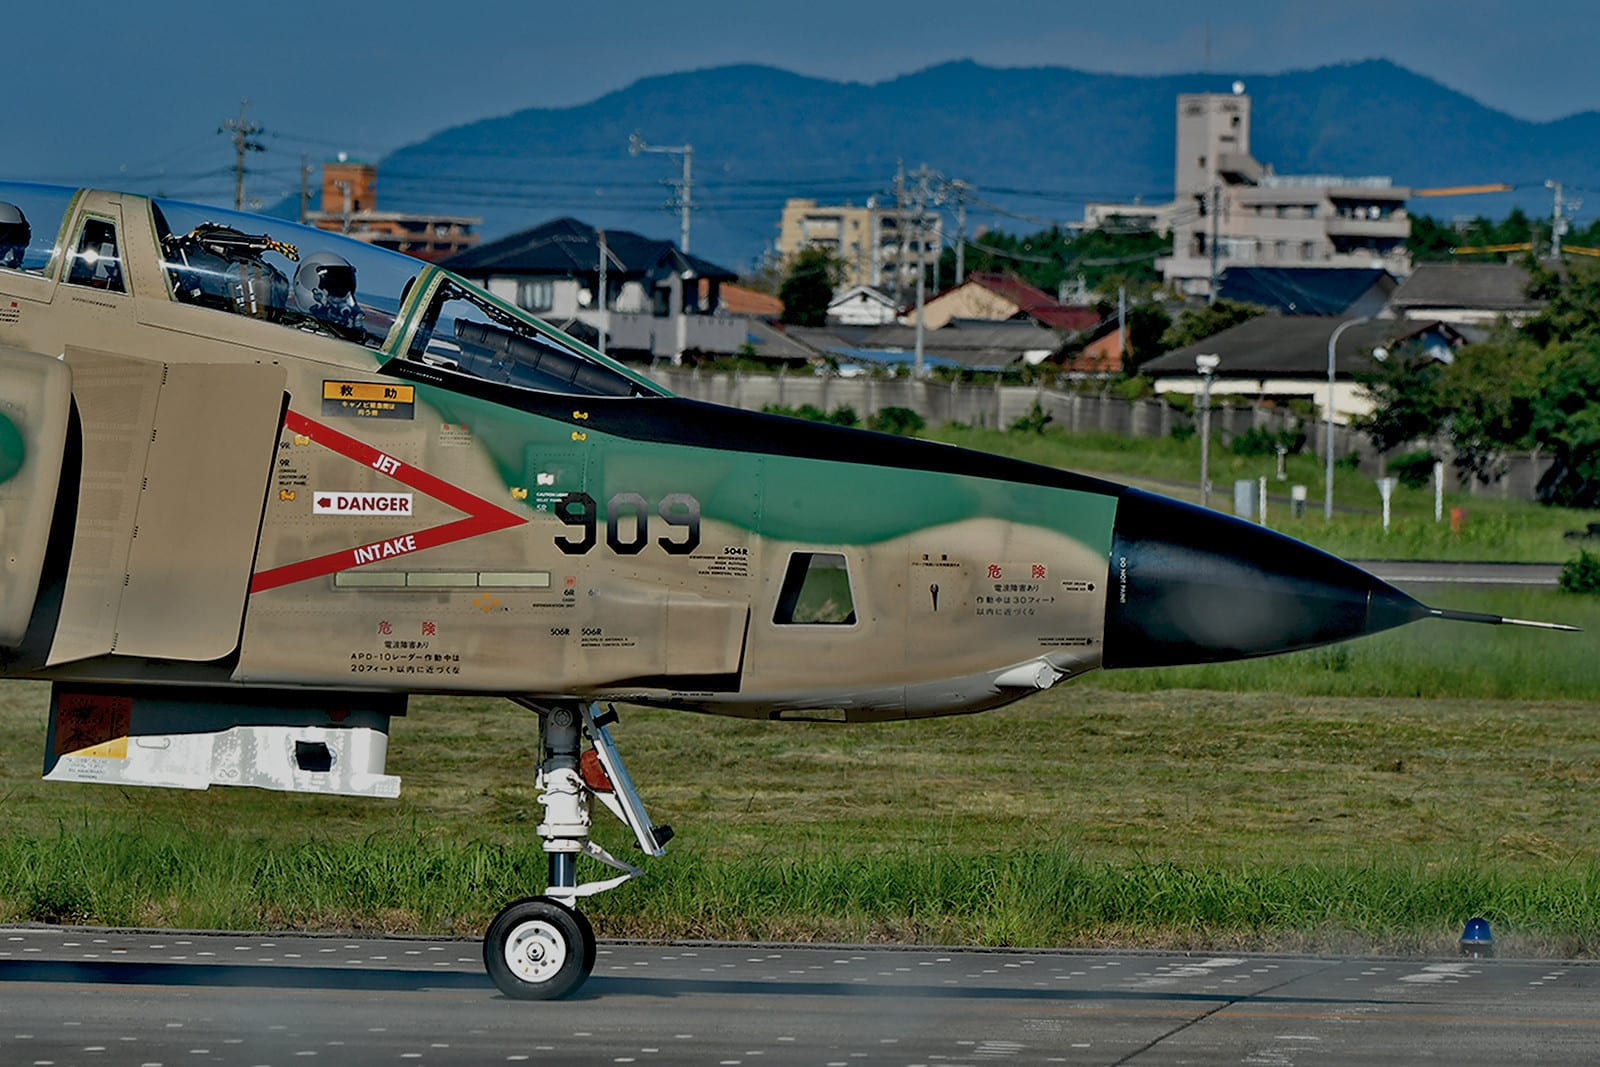F4: (1, 180, 1585, 1000)
